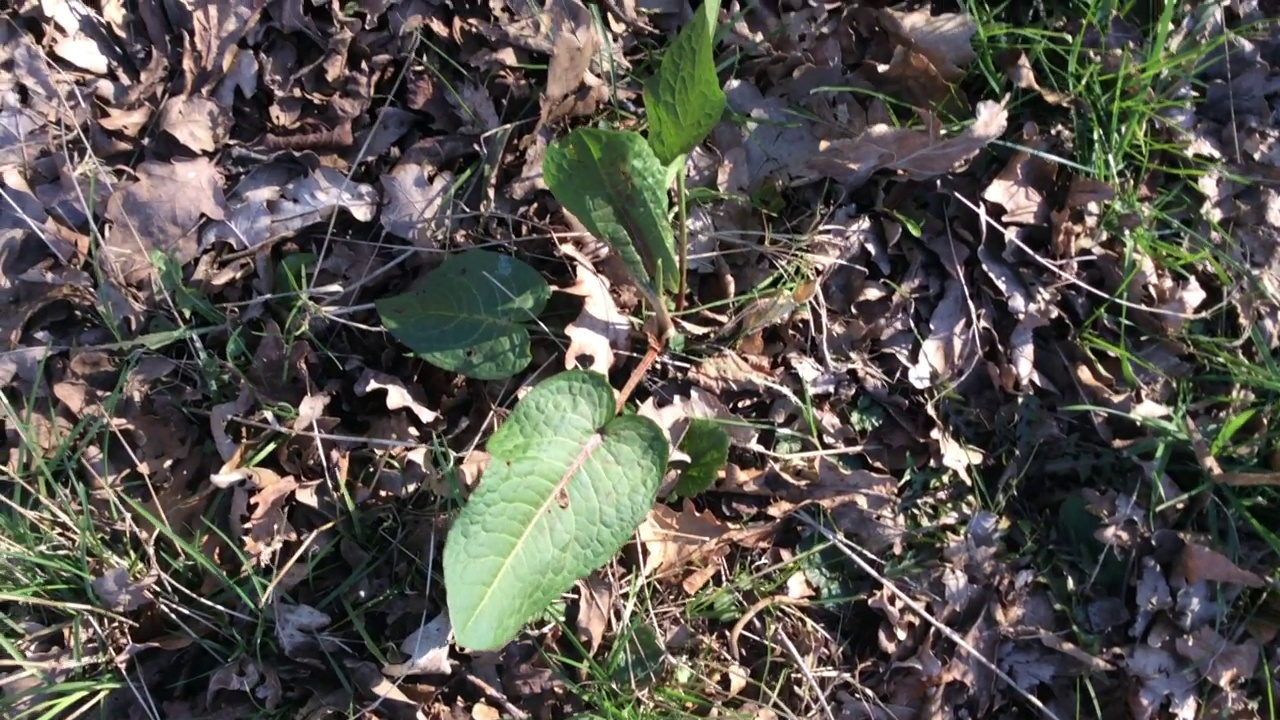rumex: (375, 1, 729, 652)
